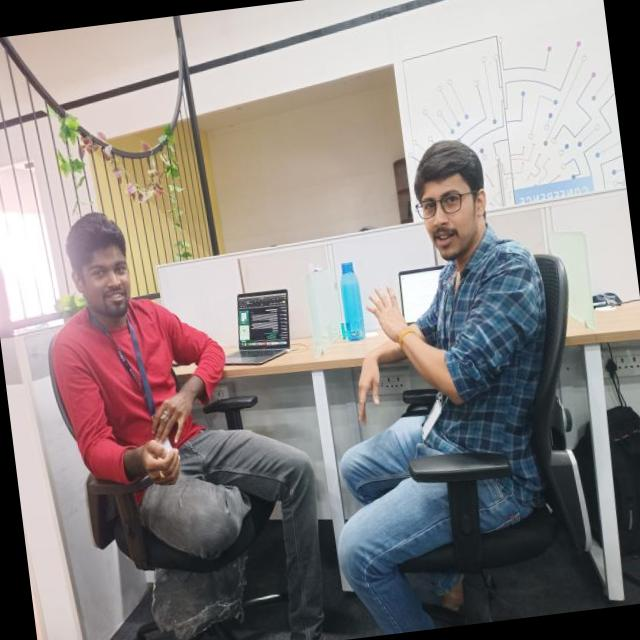id_card: (392, 270, 480, 458), (94, 304, 184, 453)
